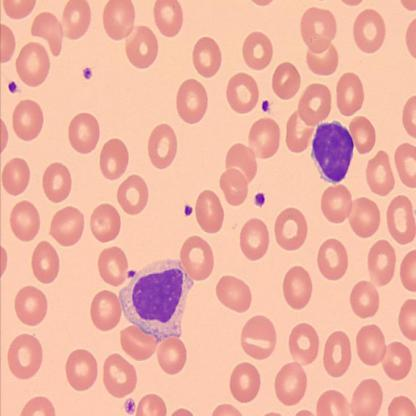Lymphocyte: (311, 118, 355, 186)
